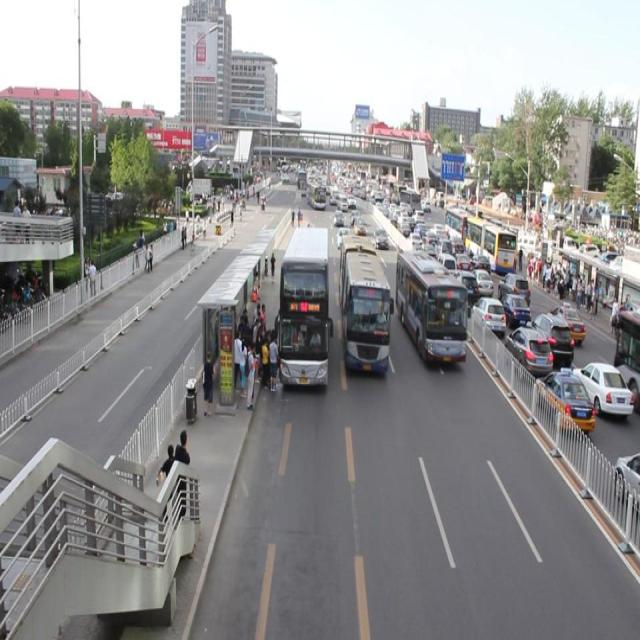car: (373, 230, 387, 250), (336, 227, 348, 246), (332, 208, 343, 228), (353, 220, 365, 236), (346, 190, 355, 208), (350, 210, 359, 224), (329, 190, 336, 203)
truck: (337, 195, 347, 210)
van: (396, 248, 465, 365), (280, 228, 327, 385), (340, 235, 387, 374), (306, 182, 324, 208)
